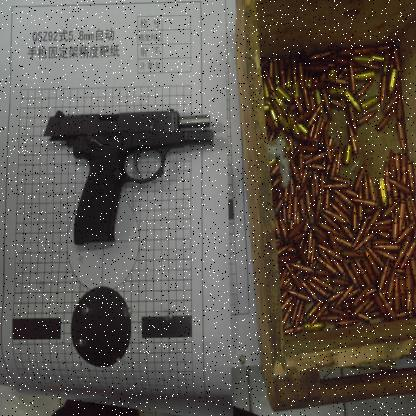pistol: (42, 107, 214, 246)
